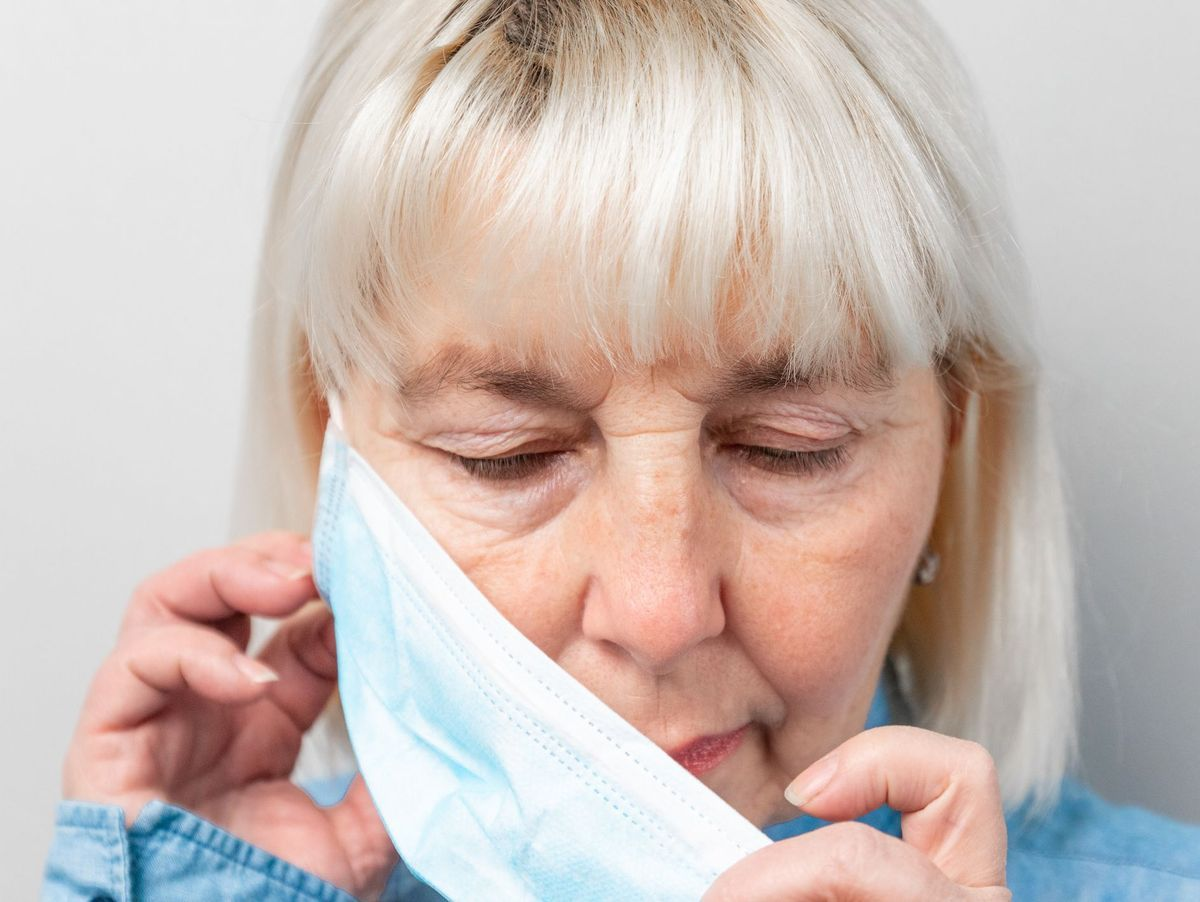with_incorrect_mask: (350, 292, 904, 857)
